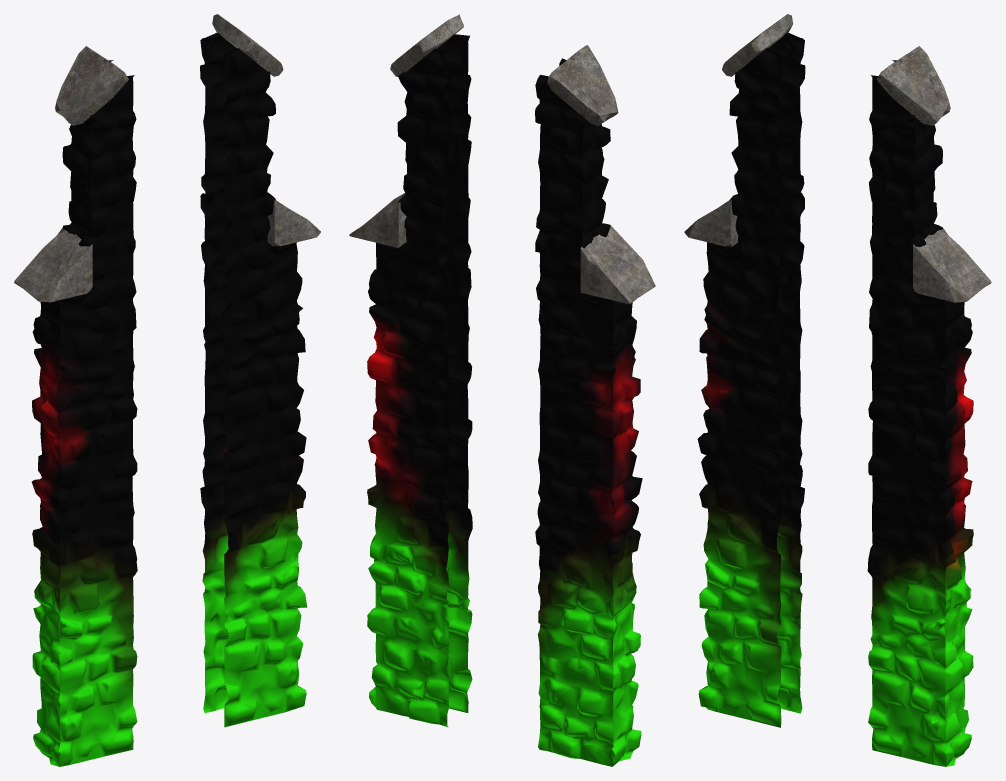
Rendered from SM_Curtain_Wall_Pillar.fbx.
3 views of the same model, side by side, from view 1: azimuth 30°, elevation 25°; view 2: azimuth 150°, elevation 25°; view 3: azimuth 330°, elevation 25° (orthographic).
Visible parts, largest first — view 1: SM_Curtain_Wall_Pillar_LOD0; view 2: SM_Curtain_Wall_Pillar_LOD0; view 3: SM_Curtain_Wall_Pillar_LOD0.
Boxes of the visible parts, left/top/right/bottom form: SM_Curtain_Wall_Pillar_LOD0: left=14, top=14, right=320, bottom=766; SM_Curtain_Wall_Pillar_LOD0: left=349, top=14, right=655, bottom=766; SM_Curtain_Wall_Pillar_LOD0: left=684, top=14, right=991, bottom=766.
Bounding box in the file's own units: 467 × 115 × 1088.
